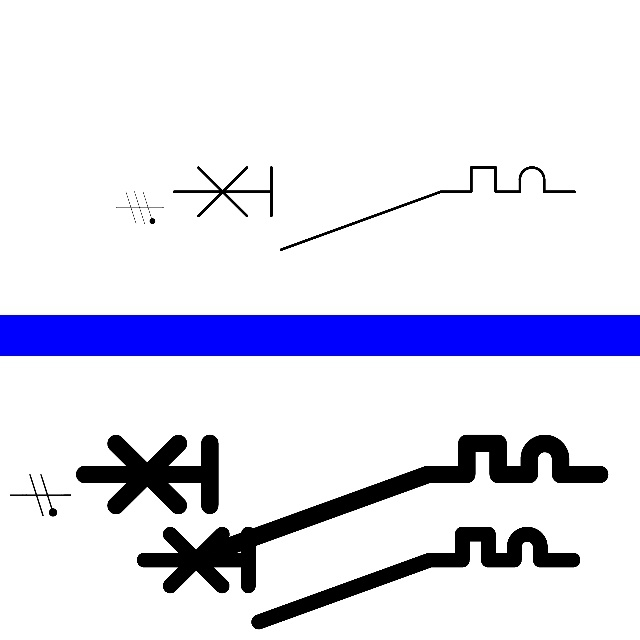interruptor_termomagnetico: (71, 430, 613, 562), (133, 523, 584, 633), (163, 157, 584, 260)
